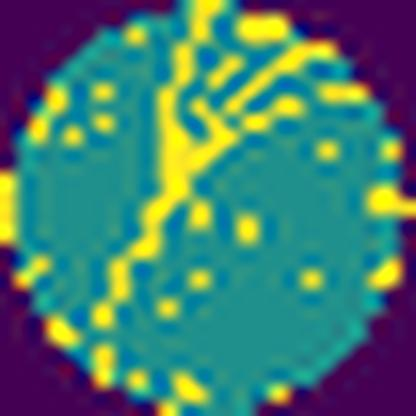Scratch: (87, 0, 338, 333)
